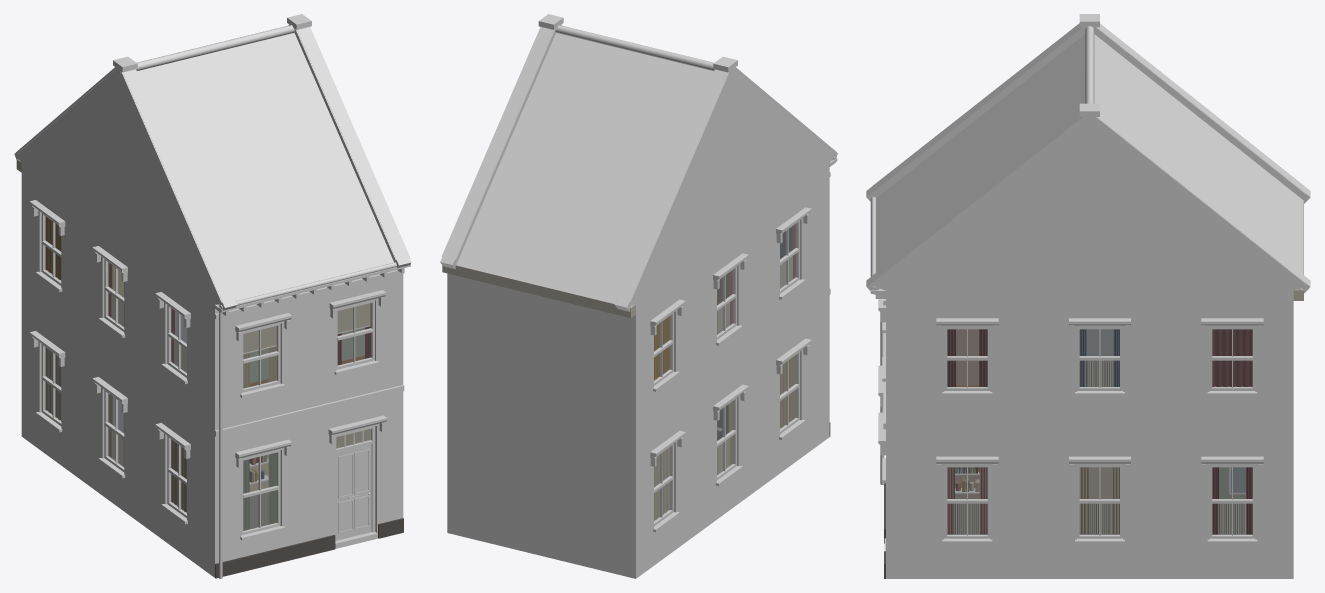
File: GateStreet_BehindInner1.glb
3 renders of one model, left to right at view 1: azimuth 30°, elevation 25°; view 2: azimuth 150°, elevation 25°; view 3: azimuth 270°, elevation 25°, orthographic. The views are drawn at different scales.
Visible parts, largest first — view 1: GateStreet_BehindInner1; view 2: GateStreet_BehindInner1; view 3: GateStreet_BehindInner1.
Boxes of the visible parts, x1,y1,x2,y2 form: GateStreet_BehindInner1: (14, 14, 411, 578); GateStreet_BehindInner1: (440, 14, 837, 578); GateStreet_BehindInner1: (866, 14, 1310, 578).
Size of the model in its own units: 4.8 by 10.13 by 8.71.
